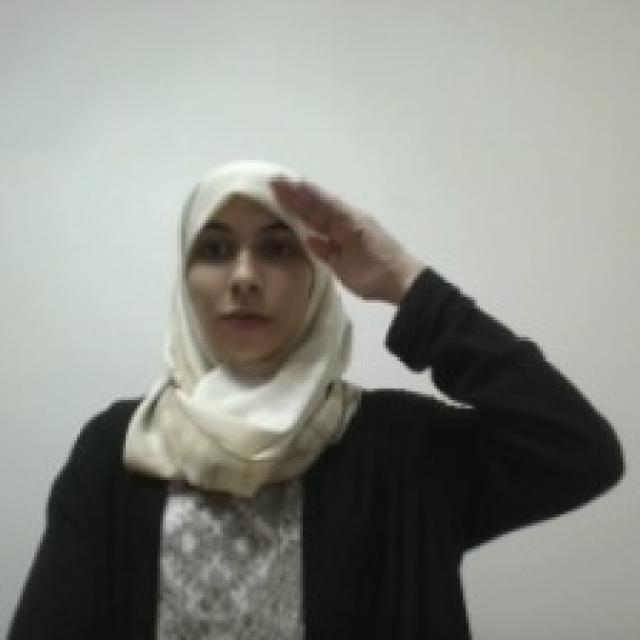Thanks: (266, 168, 413, 303)
